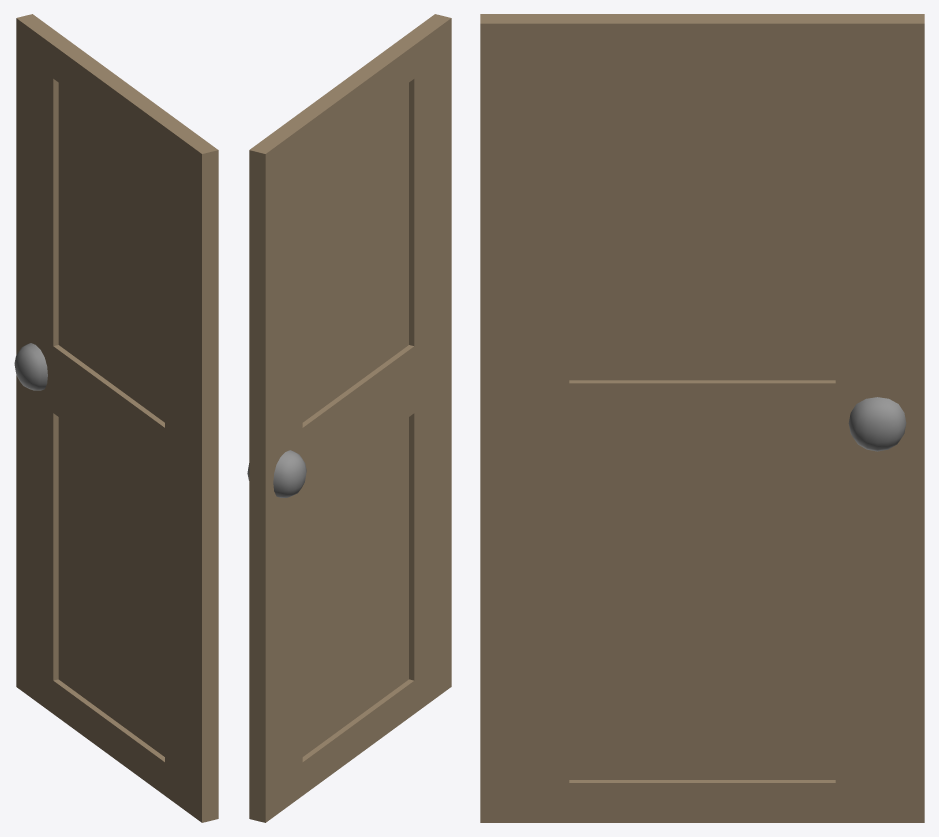
The model's file is Door.fbx.
The picture shows the model from 3 angles, left to right: view 1: azimuth 30°, elevation 25°; view 2: azimuth 150°, elevation 25°; view 3: azimuth 270°, elevation 25°; orthographic projection. The views are drawn at different scales.
Visible parts, largest first — view 1: DoorGeo, DoorHandle; view 2: DoorGeo, DoorHandle; view 3: DoorGeo, DoorHandle.
Part boxes in pixels (left/top/right/bottom): DoorGeo: left=16, top=14, right=218, bottom=822; DoorHandle: left=14, top=343, right=47, bottom=390; DoorGeo: left=249, top=14, right=451, bottom=822; DoorHandle: left=247, top=450, right=306, bottom=497; DoorGeo: left=480, top=14, right=924, bottom=822; DoorHandle: left=848, top=397, right=906, bottom=451.
Size of the model in its own units: 19.03 by 239 by 120.
